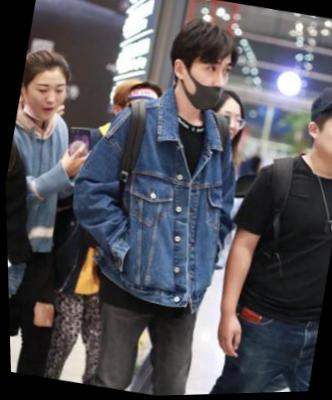NONE: (213, 103, 246, 149), (317, 115, 332, 169)
WRONG: (180, 53, 236, 117), (22, 75, 68, 125)
